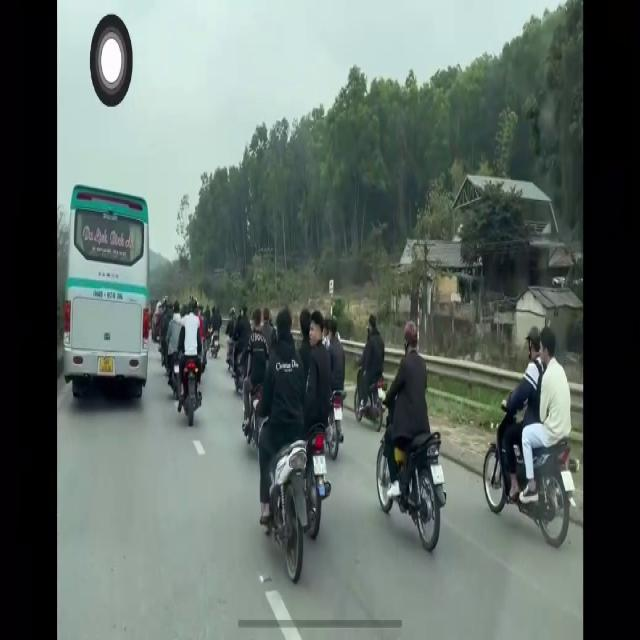helmet: (523, 320, 541, 364), (404, 312, 421, 358)
no_helmet: (276, 304, 295, 352), (541, 318, 558, 367), (309, 308, 324, 352), (251, 299, 262, 341), (369, 307, 379, 339)
